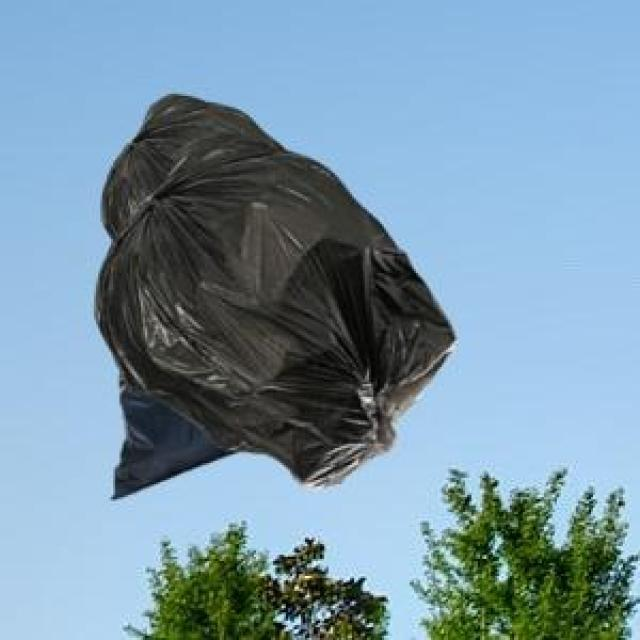waste: (96, 95, 454, 497)
